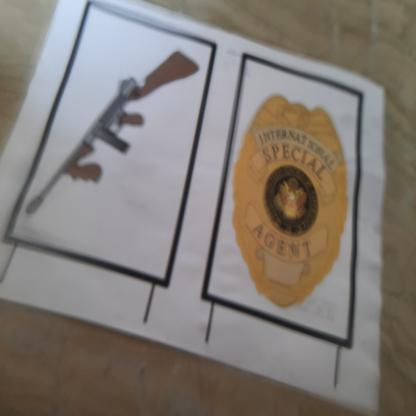Bootlegger: (27, 47, 205, 219)
G-man: (231, 90, 352, 316)
